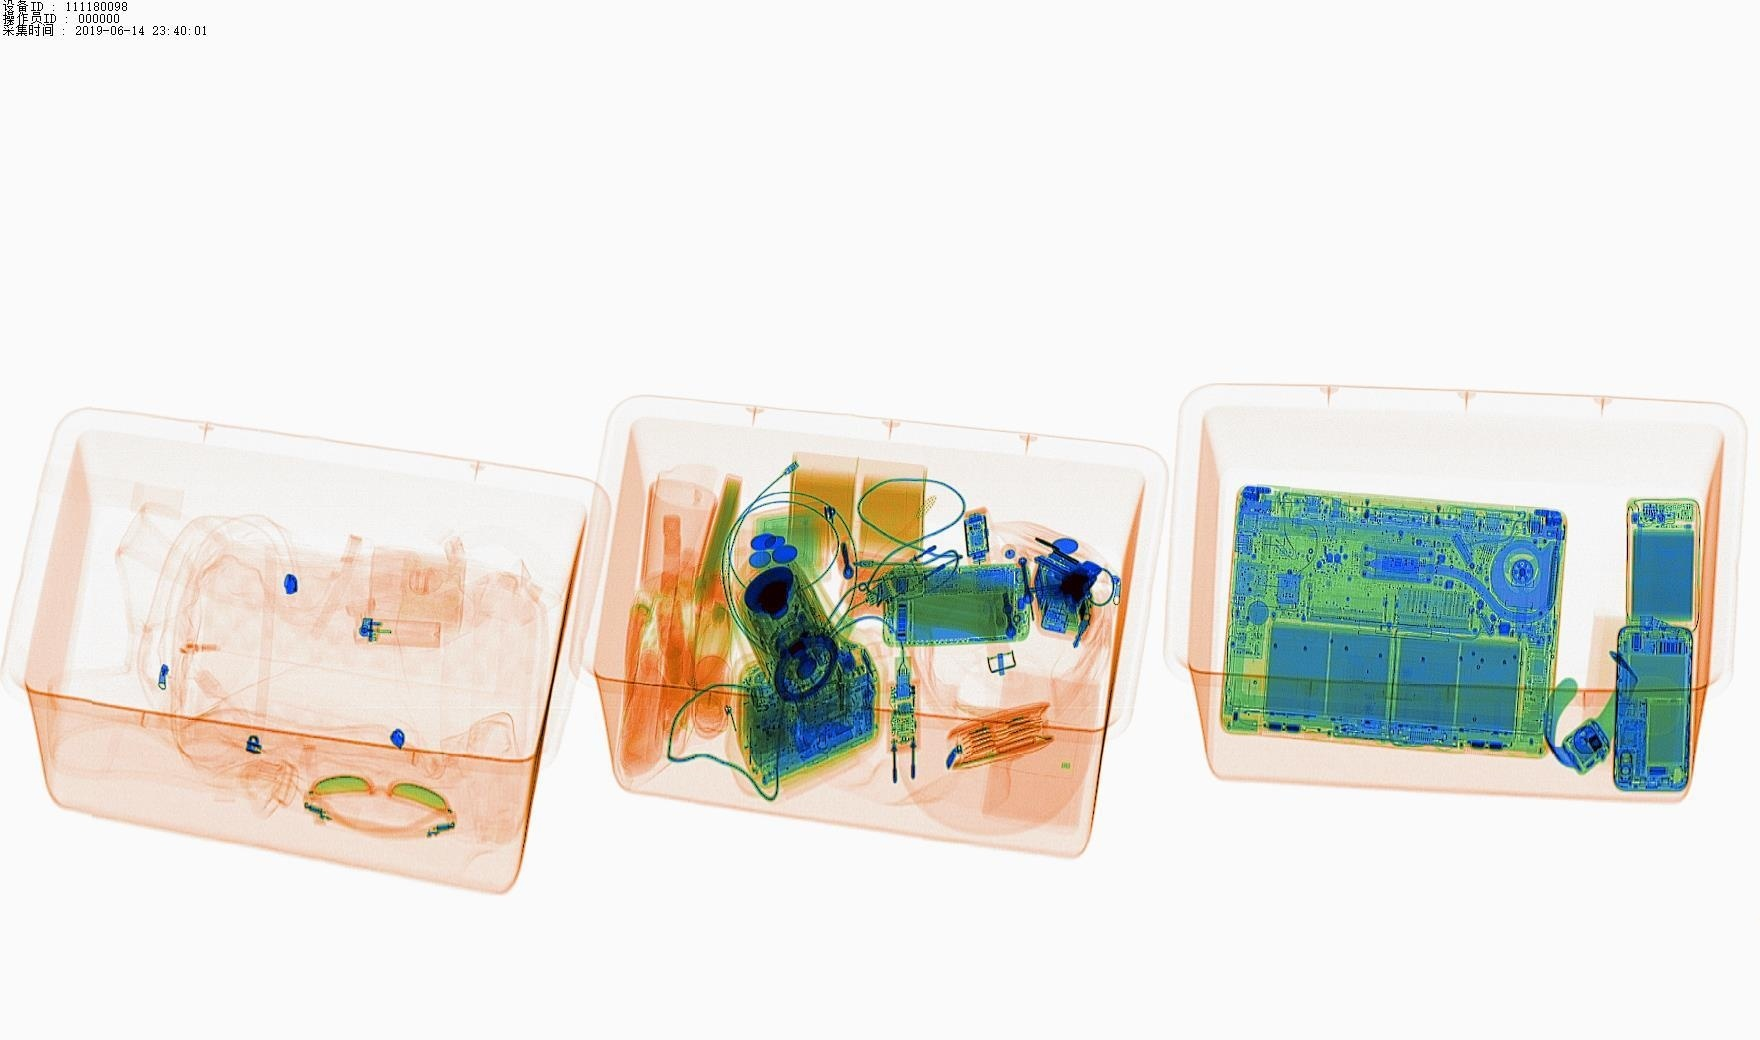NonmetallicFire: (354, 612, 465, 659)
